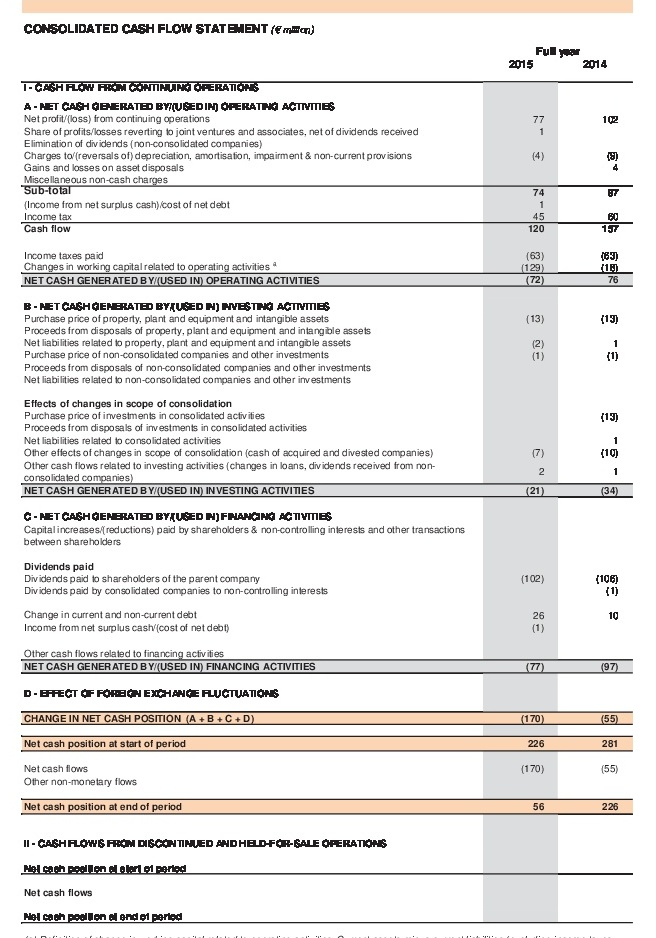table: (0, 0, 656, 938)
